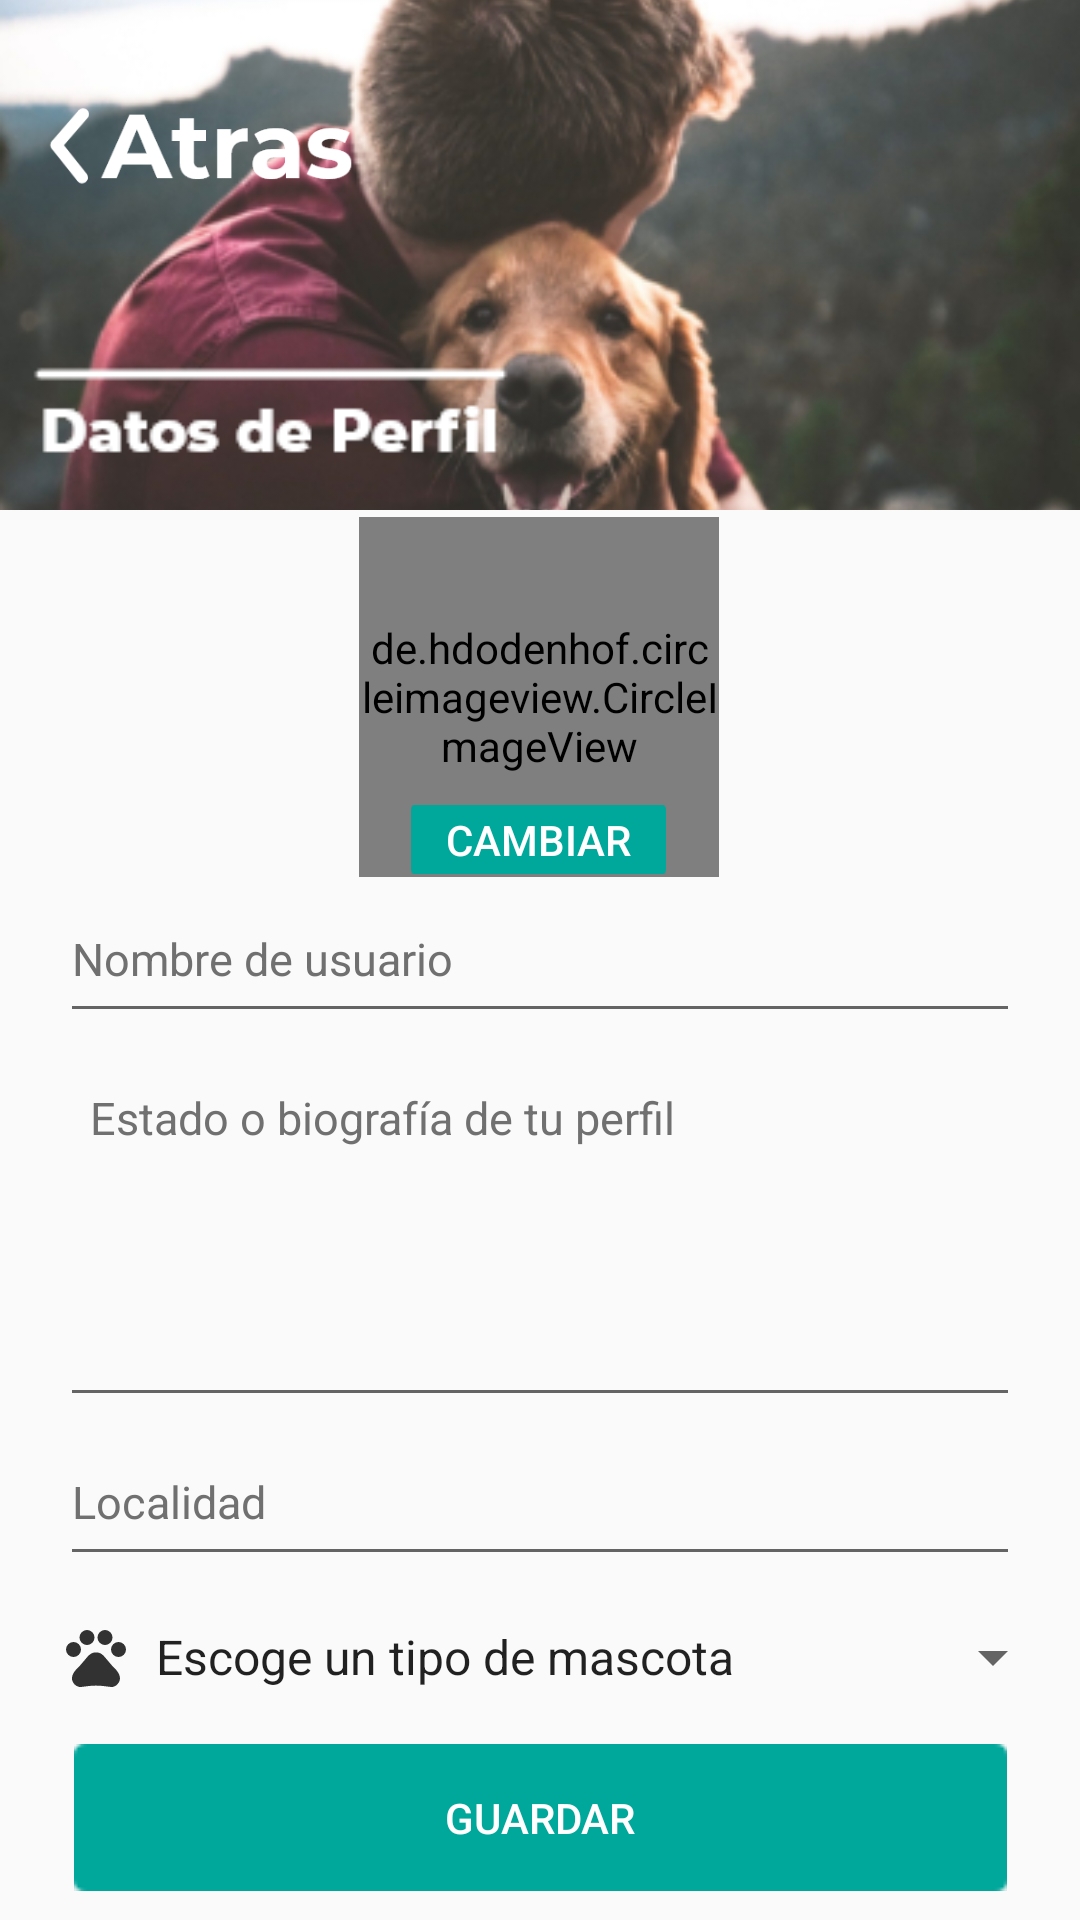

Named icons in this screenshot (1080x1920) and their centers, [x,y]:
pet: [96,1658]
